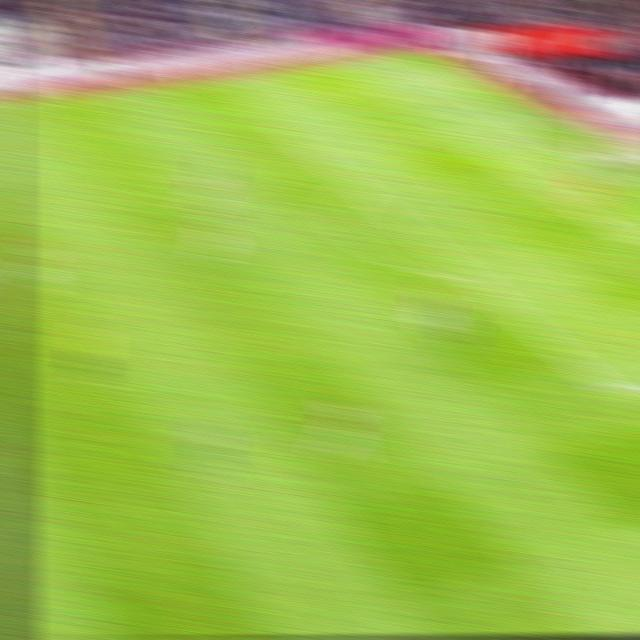bigarea_bottom_inner: (597, 376, 635, 406)
bigarea_top_inner: (271, 119, 305, 141)
bigarea_top_outter: (455, 87, 488, 106)
bottom_arc_area_intersection: (454, 265, 489, 290)
corner: (374, 48, 411, 62)
smallarea_top_inner: (471, 143, 505, 163)
smallarea_top_outter: (533, 129, 569, 150)
top_arc_area_intersection: (343, 177, 376, 196)
